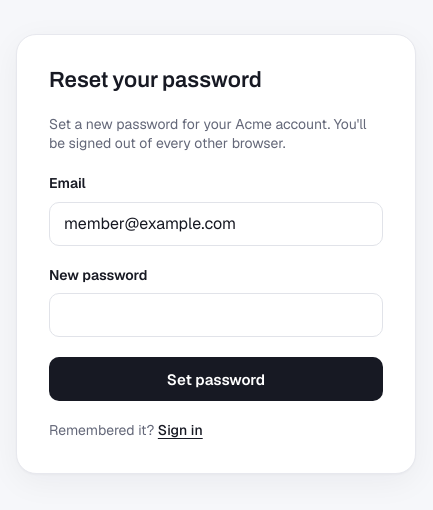
ResetPasswordPage › shows a failed reset and stays on the page
The width and height of the screenshot is (433, 510).
Type "correct horse battery" into the password field labelled "New password" at (216, 315), box [49,293,383,337]
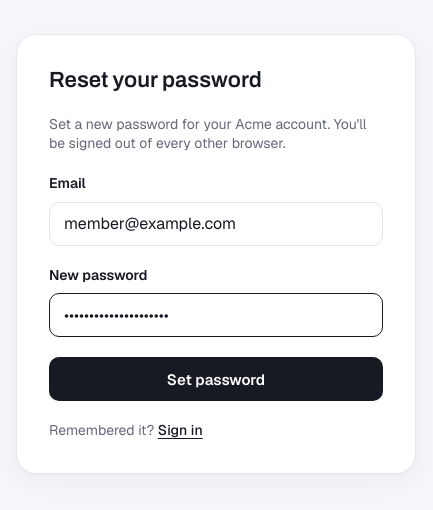
Click the button "Set password" at (216, 379), box [49,357,383,401]
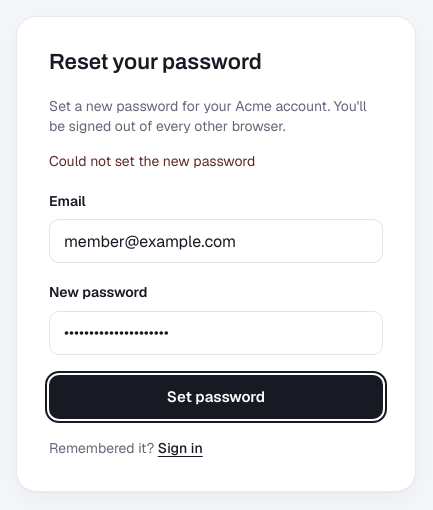
expect the message reads "Could not set the new password": met, box [49,152,255,170]
